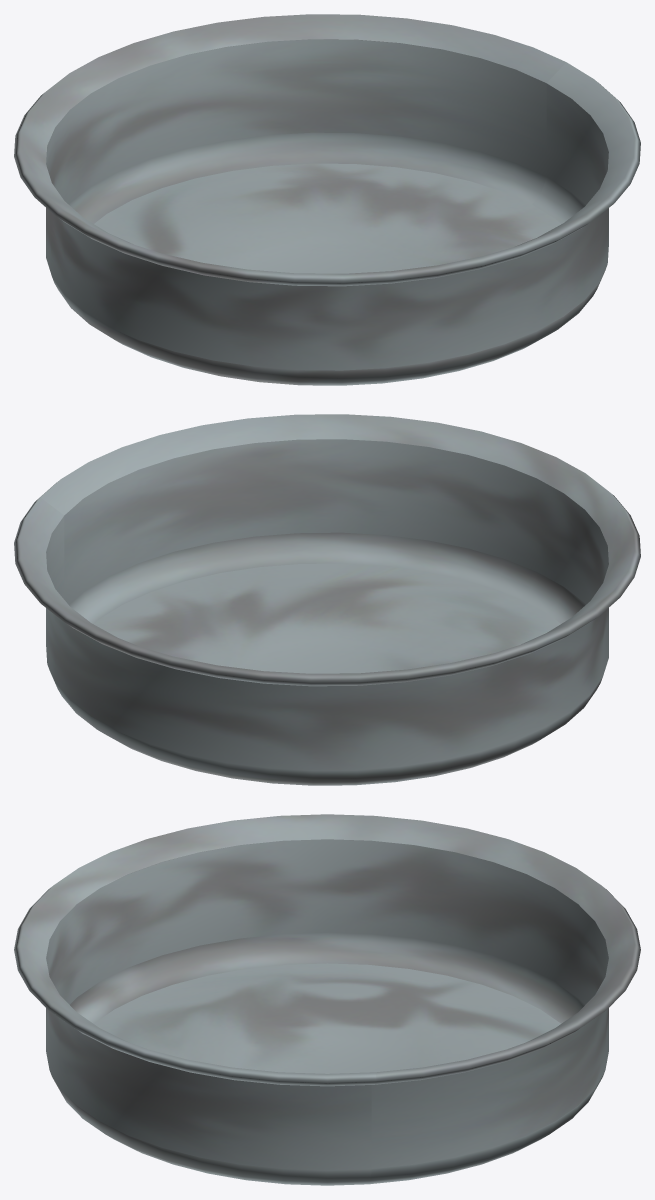
The model's file is tarai.fbx.
3 renders of one model, top to bottom at view 1: azimuth 30°, elevation 25°; view 2: azimuth 150°, elevation 25°; view 3: azimuth 270°, elevation 25°, orthographic.
Parts seen in each view (by area): view 1: tarai_in, tarai_out; view 2: tarai_in, tarai_out; view 3: tarai_in, tarai_out.
Part boxes in pixels (box(x1,y1,x2,y2)): tarai_in: box(14, 14, 640, 385); tarai_out: box(15, 14, 640, 385); tarai_in: box(14, 414, 640, 785); tarai_out: box(14, 414, 639, 785); tarai_in: box(14, 814, 640, 1185); tarai_out: box(15, 814, 640, 1185).
Bounding box in the file's own units: 20.88 × 4.92 × 20.88.
